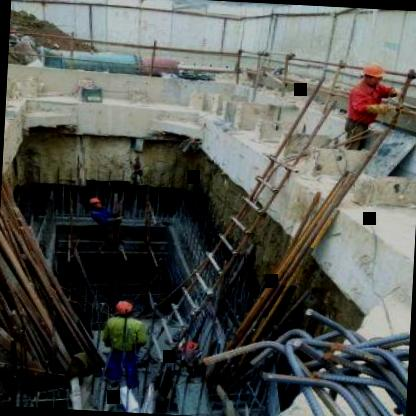helmet: (353, 57, 386, 92), (108, 296, 139, 323), (84, 189, 108, 216)
